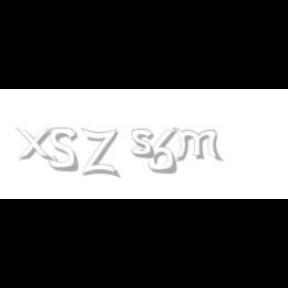6: (148, 128, 178, 176)
S: (48, 128, 79, 172)
Z: (82, 128, 118, 178)
m: (172, 128, 224, 162)
s: (131, 128, 159, 160)
x: (16, 128, 58, 162)
